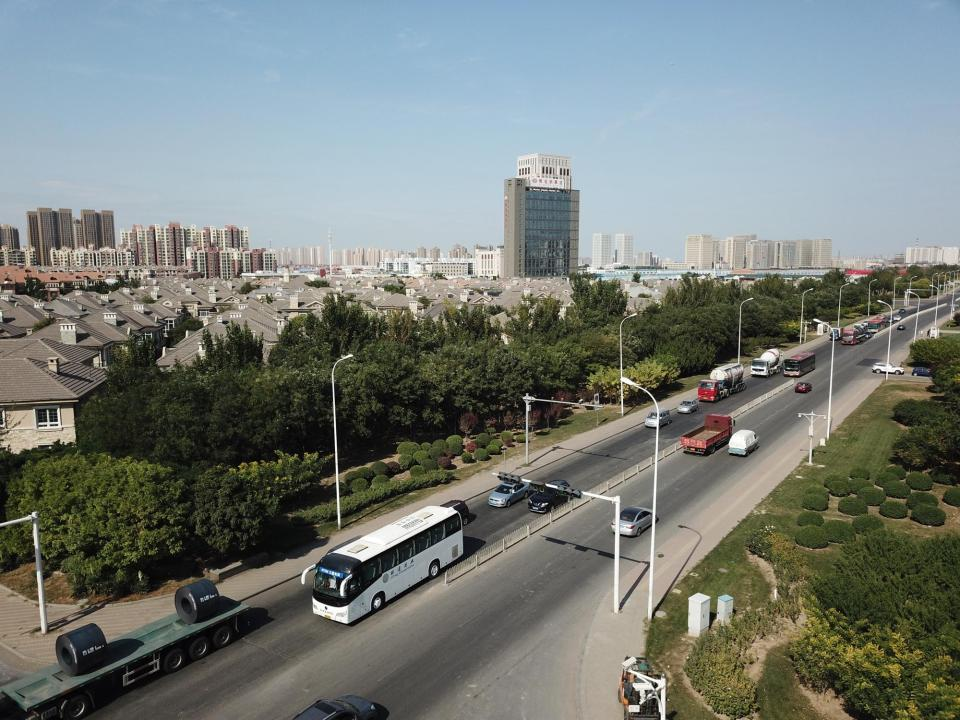bus: (780, 351, 817, 379), (868, 316, 886, 332)
car: (528, 476, 577, 520), (486, 475, 535, 513), (611, 504, 661, 539), (725, 428, 761, 458), (442, 497, 476, 520), (644, 408, 674, 431), (871, 362, 905, 376), (910, 366, 943, 377), (680, 399, 698, 417), (794, 381, 812, 394), (852, 319, 870, 329), (896, 323, 906, 331), (896, 307, 906, 313), (887, 316, 894, 323), (894, 314, 900, 320)
truck: (678, 412, 740, 457), (694, 364, 749, 404), (843, 328, 868, 344), (830, 325, 846, 341)
van: (301, 505, 467, 626), (283, 693, 394, 720)
